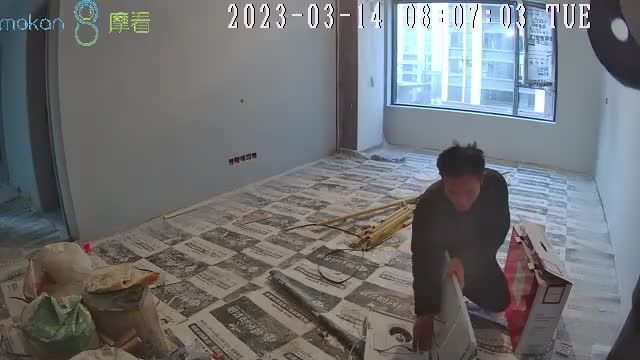people: (411, 140, 511, 352)
window: (390, 2, 557, 123)
